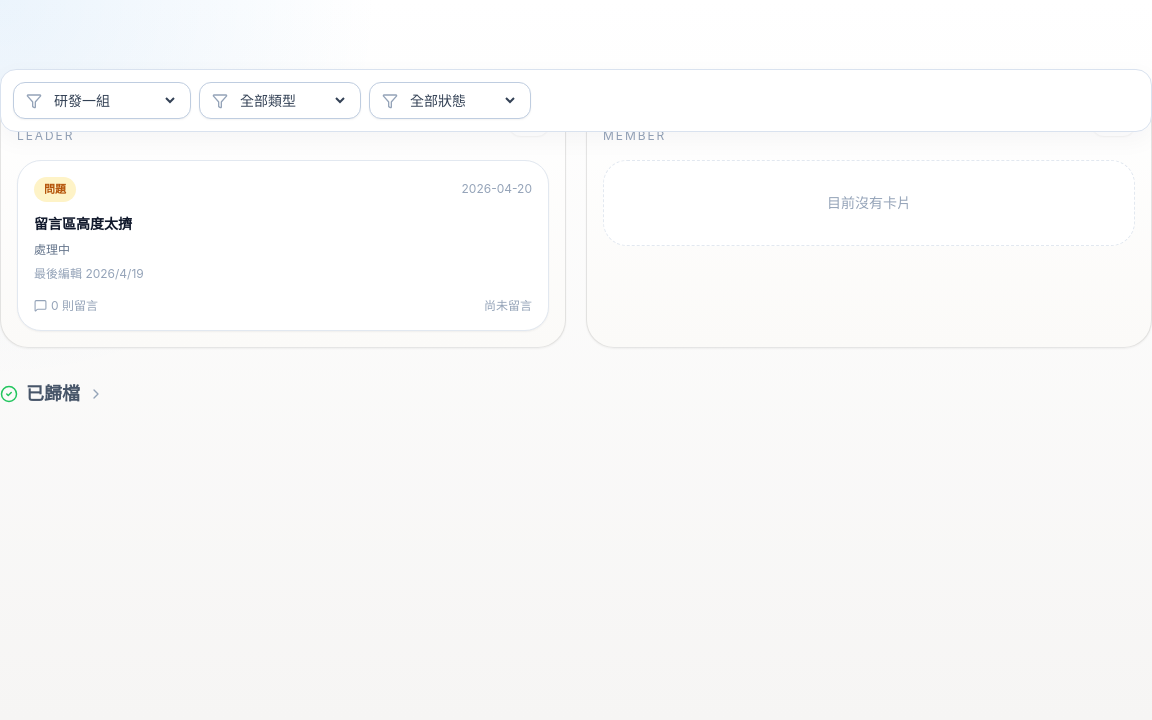
Test: TeamBoard › shows archived task content in the dialog after expanding the archive section
The width and height of the screenshot is (1152, 720).
Click the button "已歸檔" at [52, 394], box [0,380,104,408]
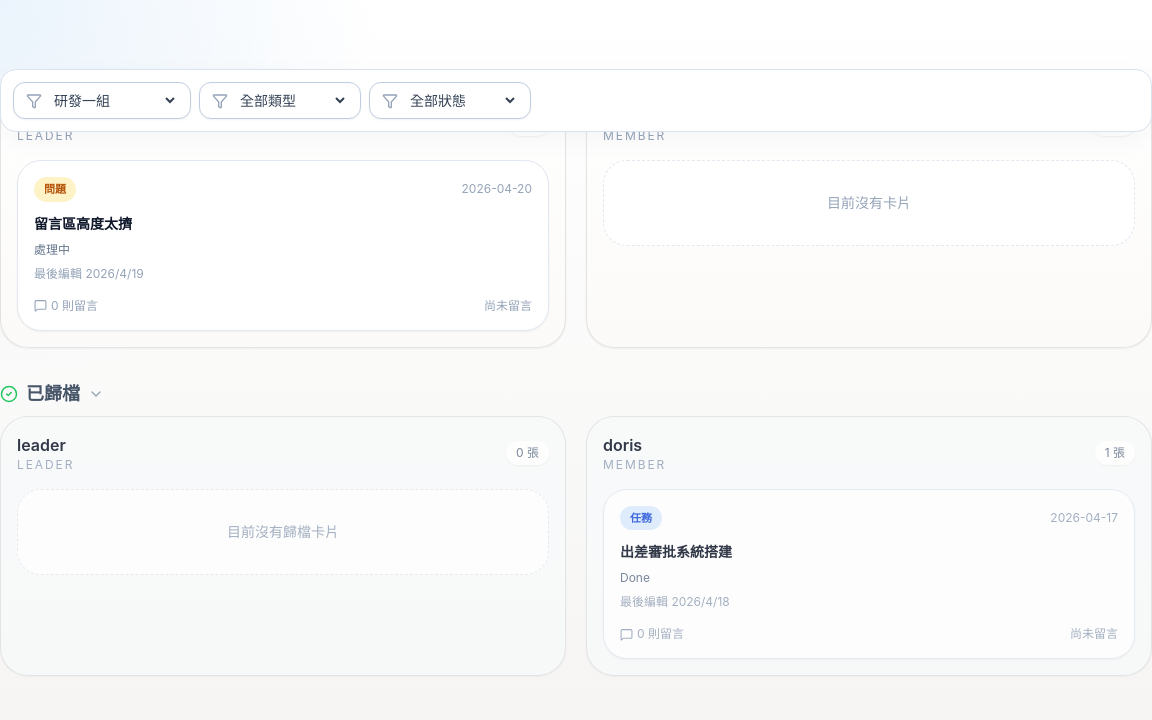
Click the button "任務 2026-04-17 出差審批系統搭建 Done 最後編輯 2026/4/18 0 則留言 尚未留言" at [641, 518], box [603,488,1135,659]
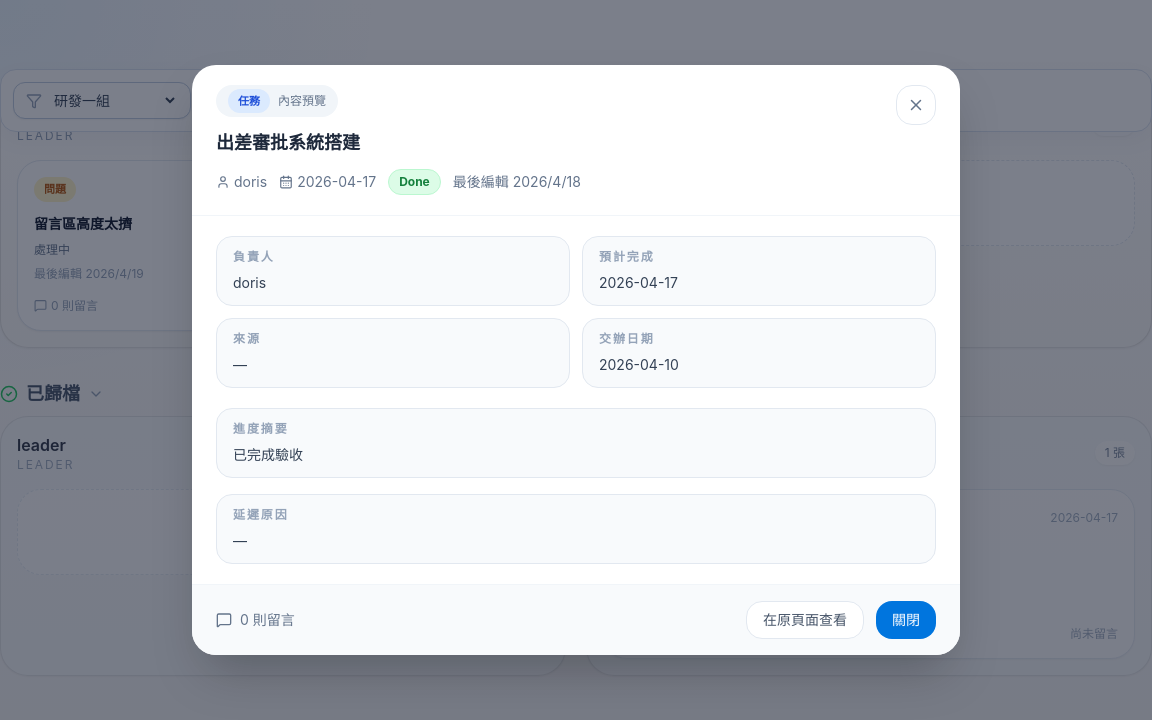
Result: the dialog named "任務內容視窗" is shown
Result: the text "進度摘要" is shown at [233,421,289,436]
Result: the text "已完成驗收" is shown at [233,446,303,463]
